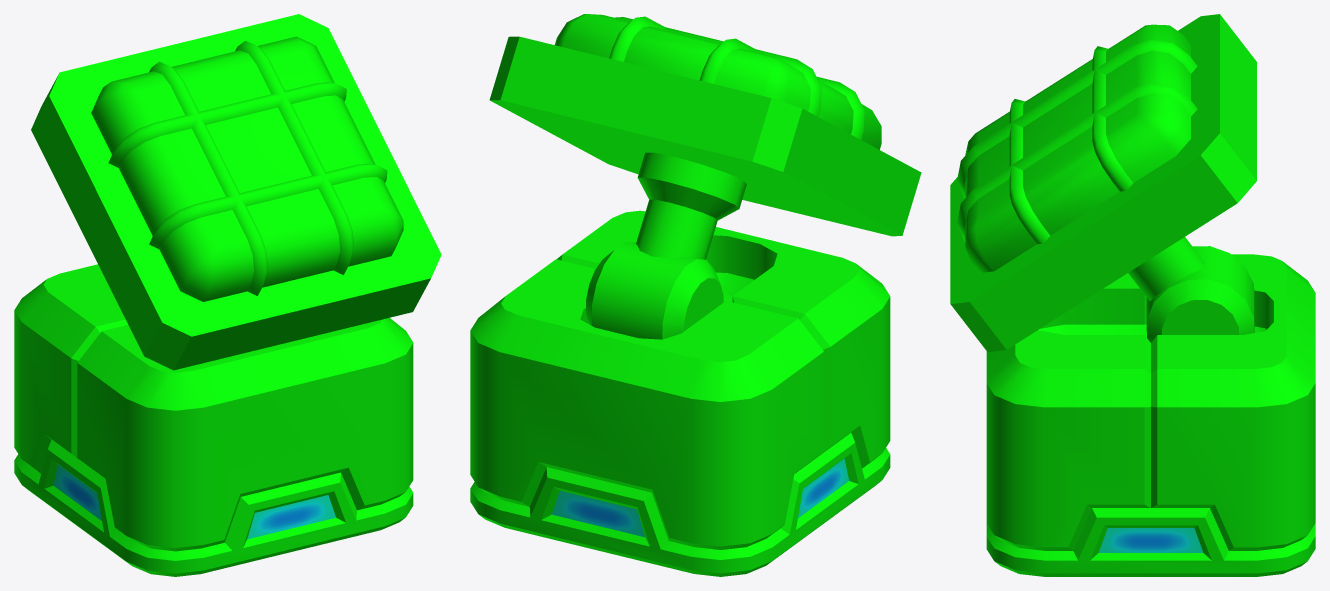
The model's file is obj_factory_solarpanel_01.fbx.
3 views of the same model, side by side, from view 1: azimuth 30°, elevation 25°; view 2: azimuth 150°, elevation 25°; view 3: azimuth 270°, elevation 25° (orthographic). The views are drawn at different scales.
Visible parts, largest first — view 1: solarpanelblock_01_lp.002; view 2: solarpanelblock_01_lp.002; view 3: solarpanelblock_01_lp.002.
Part boxes in pixels (bbox=[...]): solarpanelblock_01_lp.002: bbox=[14, 14, 441, 576]; solarpanelblock_01_lp.002: bbox=[470, 14, 921, 576]; solarpanelblock_01_lp.002: bbox=[950, 14, 1315, 576].
Bounding box in the file's own units: 1.5 × 2.26 × 1.66.
